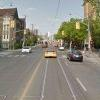Car: (62, 45, 85, 63)
